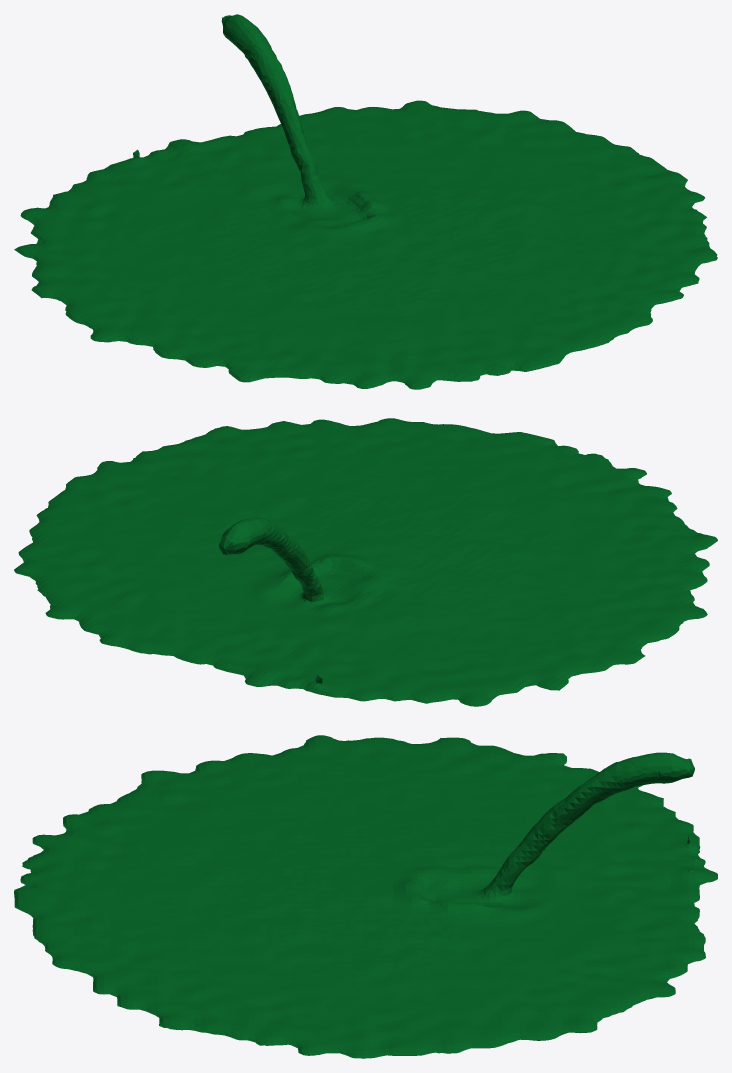
The model's file is fluid_59.fbx.
3 views of the same model, one above another, from view 1: azimuth 30°, elevation 25°; view 2: azimuth 150°, elevation 25°; view 3: azimuth 270°, elevation 25° (orthographic). The views are drawn at different scales.
Parts seen in each view (by area): view 1: Cube; view 2: Cube; view 3: Cube.
Boxes of the visible parts, x1,y1,x2,y2 form: Cube: [14, 14, 717, 389]; Cube: [14, 418, 717, 706]; Cube: [14, 735, 717, 1058].
Size of the model in its own units: 831 by 177 by 765.
